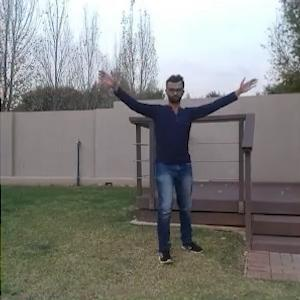takeoff: (100, 72, 251, 254)
